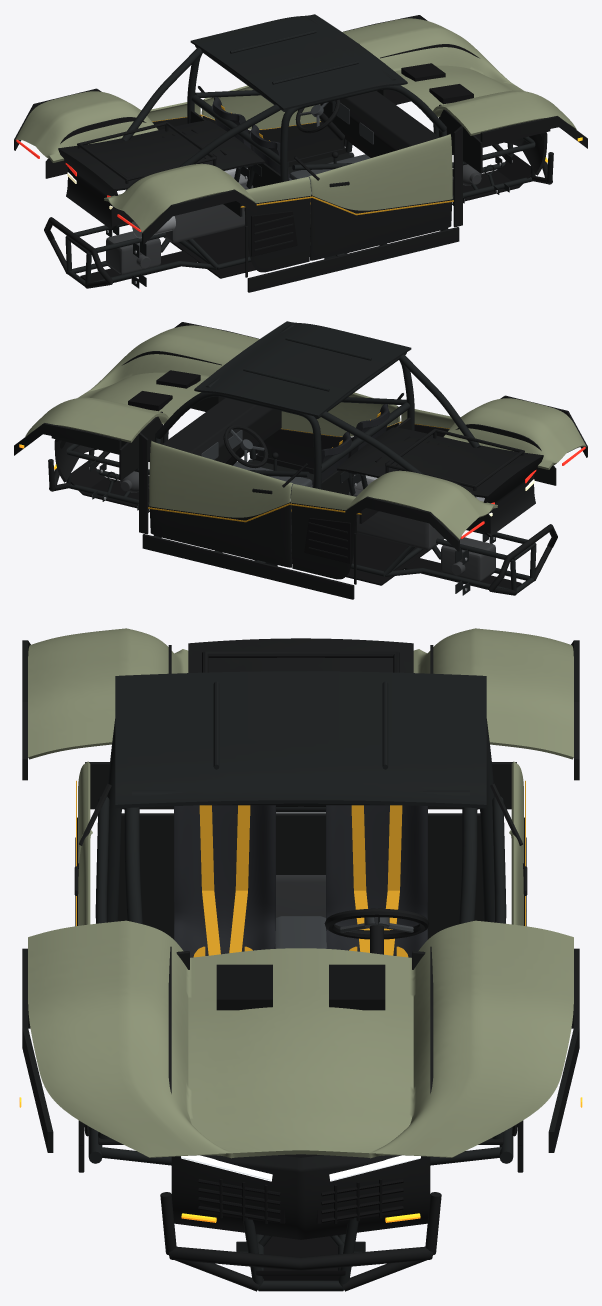
Rendered from utv.glb.
The picture shows the model from 3 angles, top to bottom: view 1: azimuth 30°, elevation 25°; view 2: azimuth 150°, elevation 25°; view 3: azimuth 270°, elevation 25°; orthographic projection. The views are drawn at different scales.
Visible parts, largest first — view 1: utv, frame, steer; view 2: utv, frame, steer; view 3: utv, frame, steer.
Boxes of the visible parts, bbox=[...] form: utv: bbox=[14, 14, 587, 292]; frame: bbox=[65, 124, 535, 288]; steer: bbox=[295, 99, 340, 133]; utv: bbox=[14, 321, 587, 599]; frame: bbox=[66, 431, 536, 595]; steer: bbox=[223, 424, 268, 468]; utv: bbox=[22, 628, 579, 1291]; frame: bbox=[88, 806, 513, 1291]; steer: bbox=[324, 908, 429, 939].
Bounding box in the file's own units: 3.88 × 1.4 × 2.
